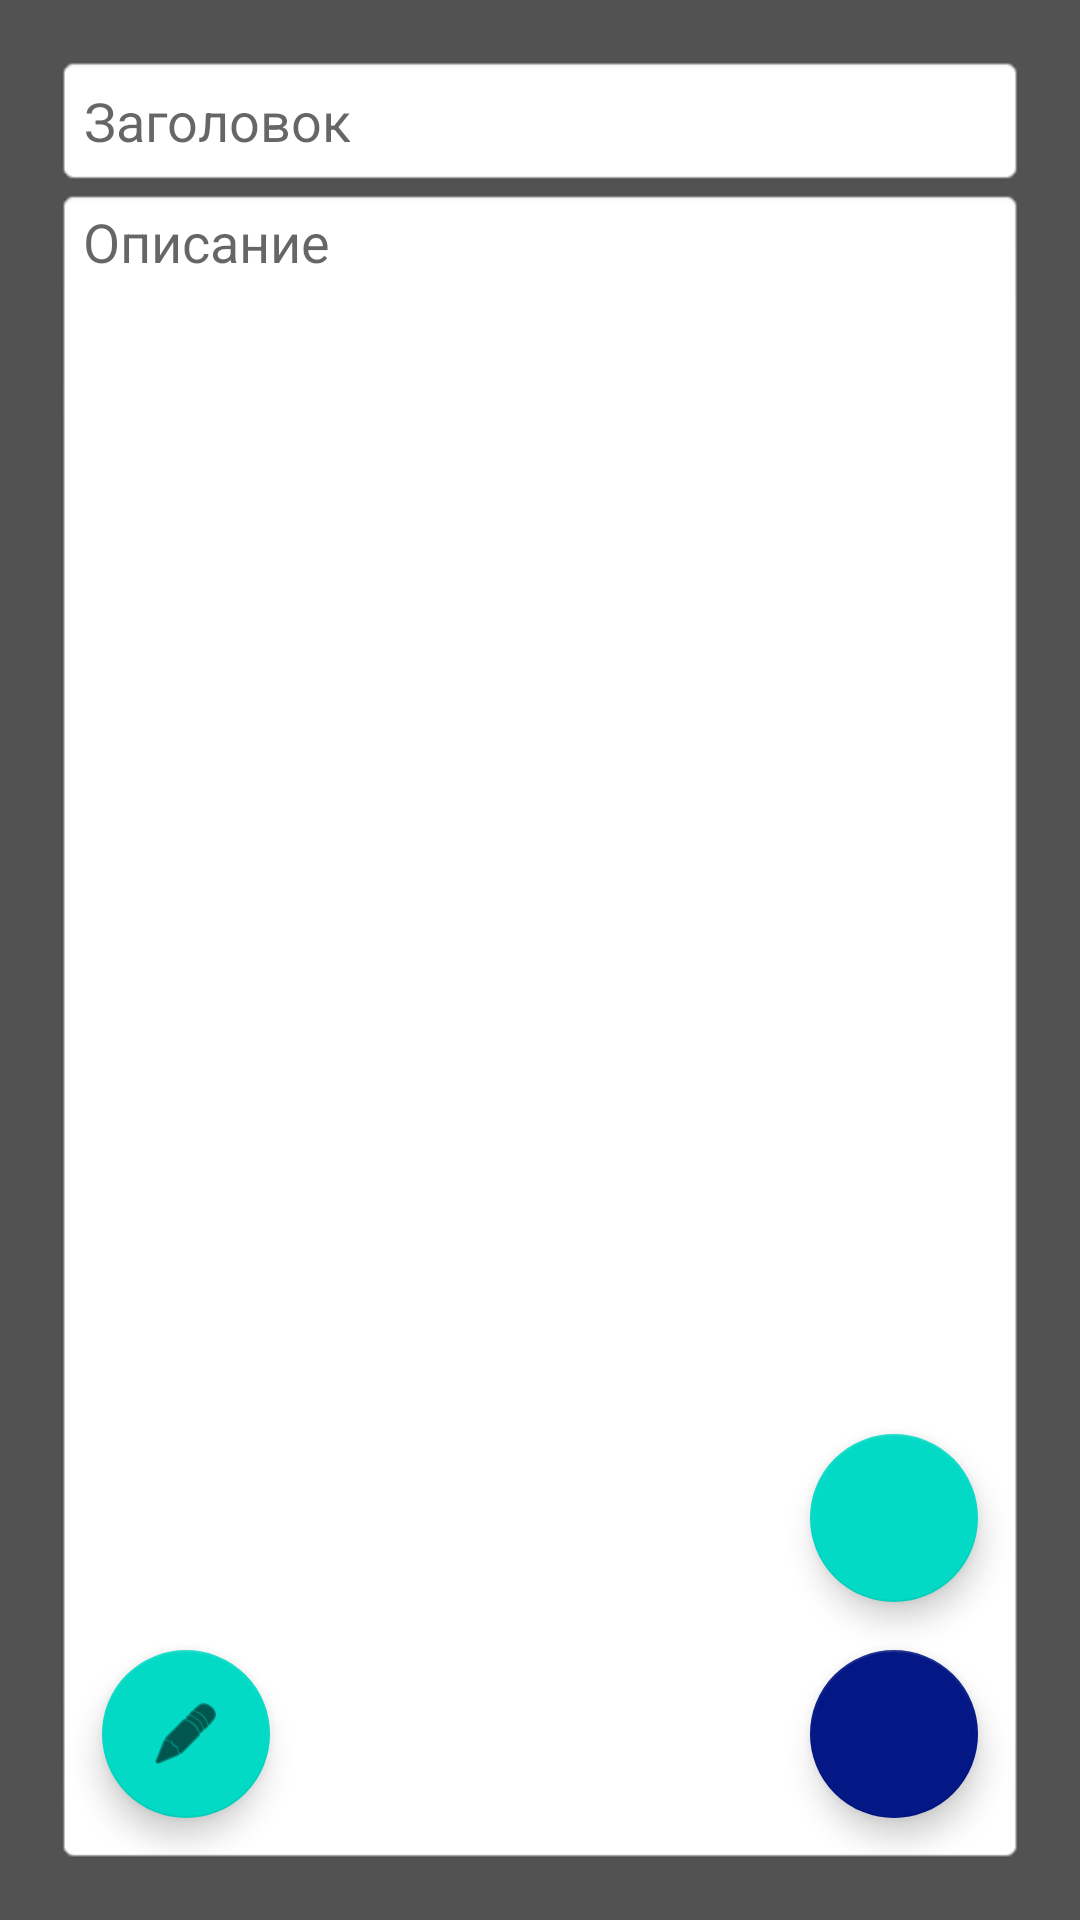

Icon click points for this 1080px×1920px phone screenshot, format (x,y):
edit: (186,1734)
